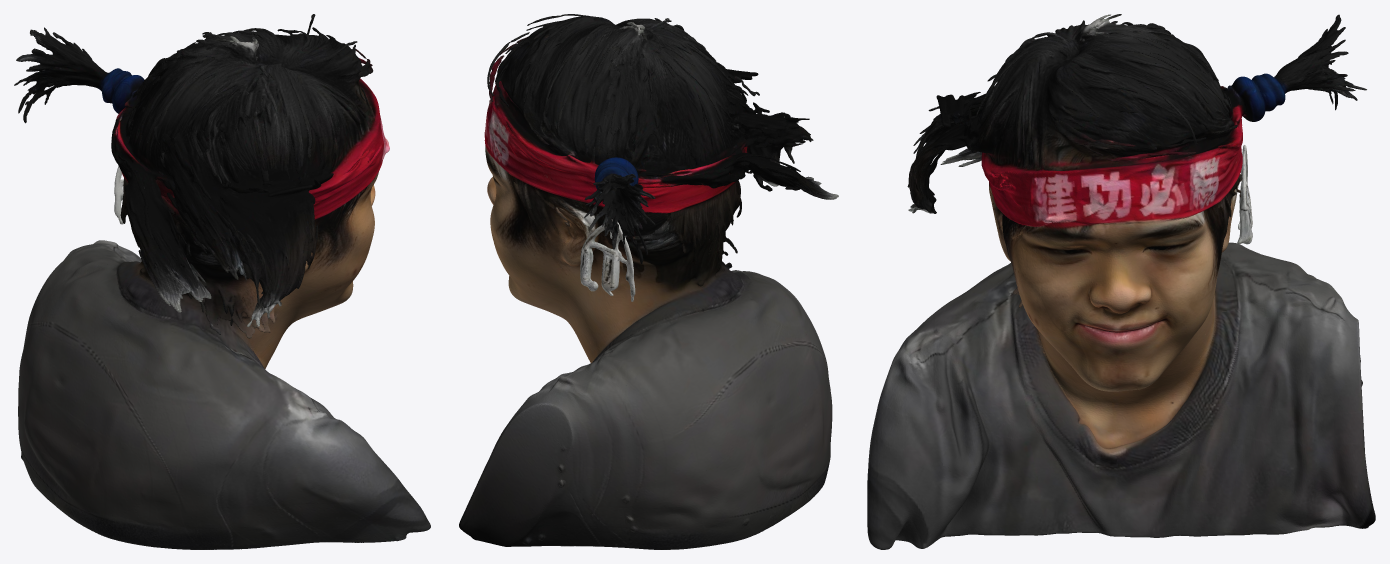
The model's file is person+3d+model.glb.
3 views of the same model, side by side, from view 1: azimuth 30°, elevation 25°; view 2: azimuth 150°, elevation 25°; view 3: azimuth 270°, elevation 25° (orthographic). The views are drawn at different scales.
Visible parts, largest first — view 1: tripo_node_17468504-3ef4-4334-9f9b-f3807545f373; view 2: tripo_node_17468504-3ef4-4334-9f9b-f3807545f373; view 3: tripo_node_17468504-3ef4-4334-9f9b-f3807545f373.
Boxes of the visible parts, x1,y1,x2,y2 form: tripo_node_17468504-3ef4-4334-9f9b-f3807545f373: (14, 14, 430, 549); tripo_node_17468504-3ef4-4334-9f9b-f3807545f373: (459, 14, 838, 549); tripo_node_17468504-3ef4-4334-9f9b-f3807545f373: (867, 14, 1375, 549).
Size of the model in its own units: 0.7425 by 1 by 0.9434.
1 material, 1 textured.
